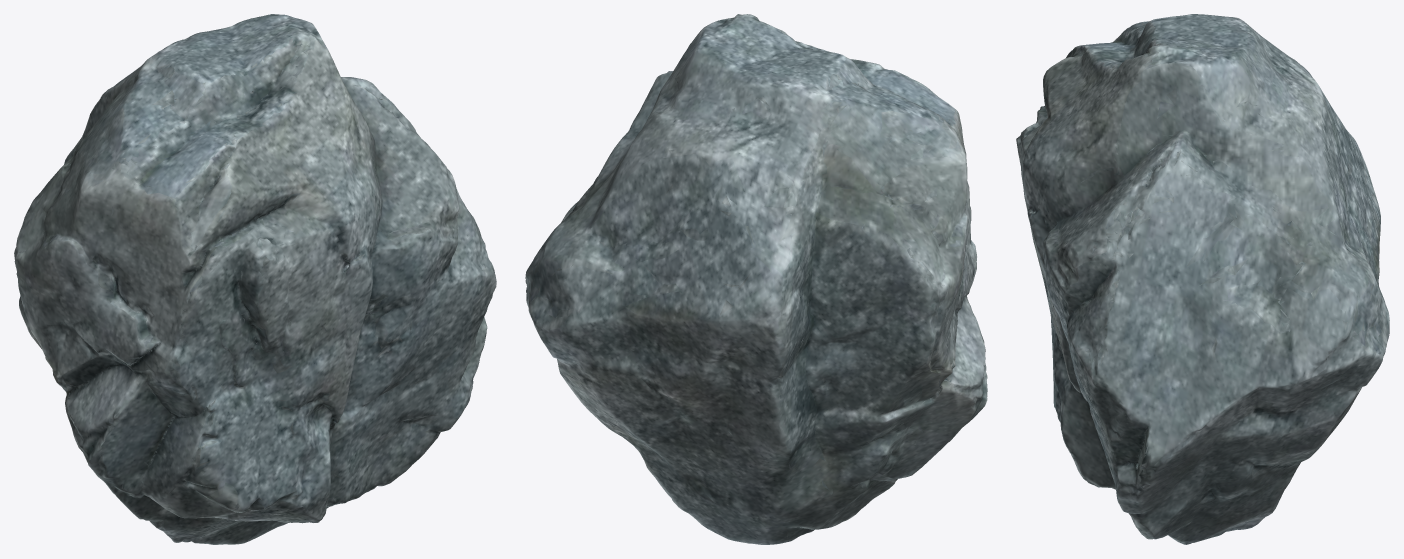
File: testimonial-rock.glb
The picture shows the model from 3 angles, left to right: view 1: azimuth 30°, elevation 25°; view 2: azimuth 150°, elevation 25°; view 3: azimuth 270°, elevation 25°; orthographic projection. The views are drawn at different scales.
Parts seen in each view (by area): view 1: Mesh_0; view 2: Mesh_0; view 3: Mesh_0.
Part boxes in pixels (x1,y1,x2,y2): Mesh_0: (14, 14, 496, 544); Mesh_0: (525, 14, 987, 544); Mesh_0: (1016, 14, 1389, 544).
Bounding box in the file's own units: 1.68 × 1.91 × 1.3.
Materials: 1 (1 with a texture image).
